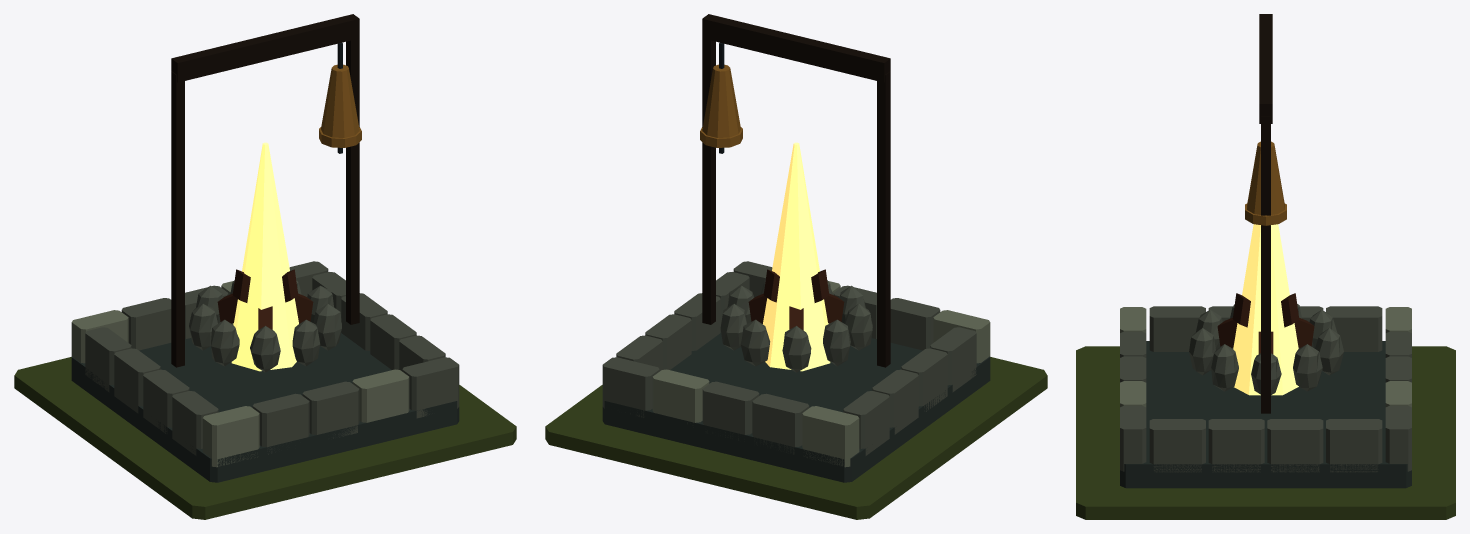
The model's file is watchfire_t3.glb.
3 views of the same model, side by side, from view 1: azimuth 30°, elevation 25°; view 2: azimuth 150°, elevation 25°; view 3: azimuth 270°, elevation 25° (orthographic).
Visible parts, largest first — view 1: MMR | watchfire | T03 Architecture.001, MMR | watchfire | Tier 03 Ground.001; view 2: MMR | watchfire | T03 Architecture.001, MMR | watchfire | Tier 03 Ground.001; view 3: MMR | watchfire | T03 Architecture.001, MMR | watchfire | Tier 03 Ground.001.
Boxes of the visible parts, bbox=[...] form: MMR | watchfire | T03 Architecture.001: bbox=[71, 14, 459, 482]; MMR | watchfire | Tier 03 Ground.001: bbox=[14, 357, 516, 519]; MMR | watchfire | T03 Architecture.001: bbox=[602, 14, 990, 482]; MMR | watchfire | Tier 03 Ground.001: bbox=[545, 357, 1047, 519]; MMR | watchfire | T03 Architecture.001: bbox=[1120, 14, 1411, 488]; MMR | watchfire | Tier 03 Ground.001: bbox=[1076, 346, 1455, 519].
Bounding box in the file's own units: 1.3 × 1.44 × 1.3.
2 materials, 1 textured.
